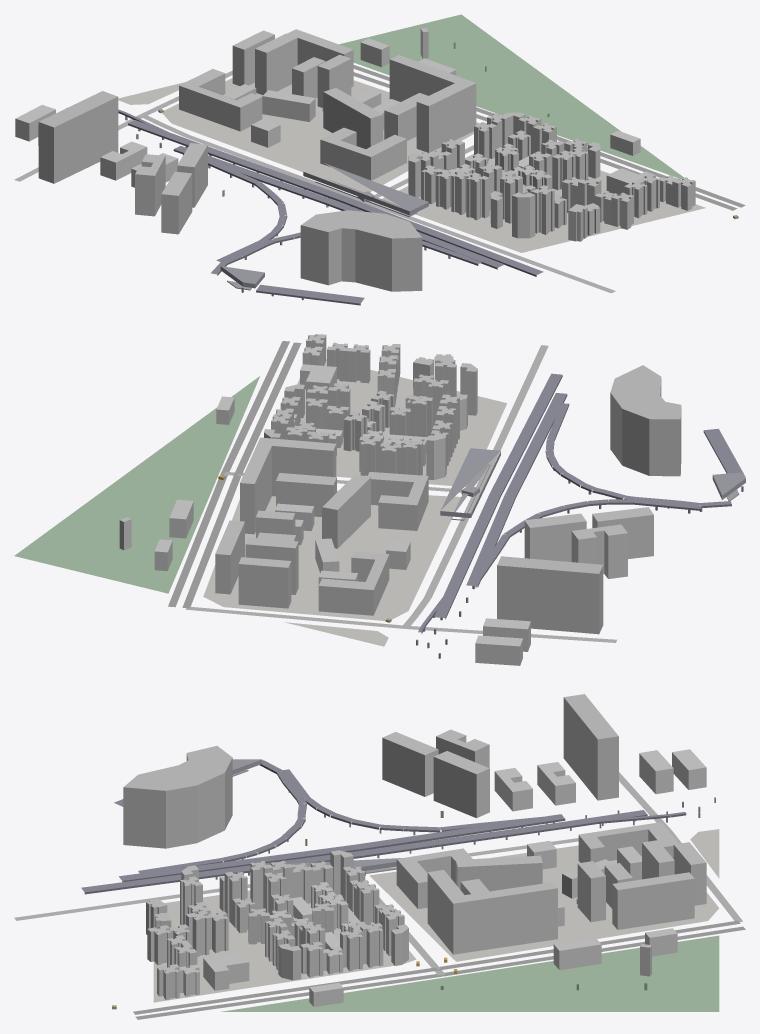
The picture shows the model from 3 angles, top to bottom: view 1: azimuth 30°, elevation 25°; view 2: azimuth 150°, elevation 25°; view 3: azimuth 270°, elevation 25°; orthographic projection. The views are drawn at different scales.
Bounding box in the file's own units: 578 × 59.99 × 647.
